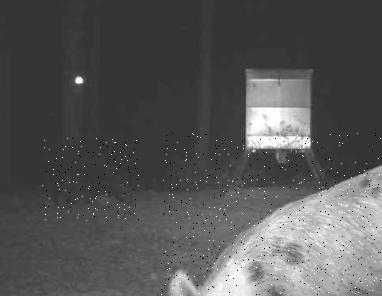Hog: (161, 133, 382, 296), (42, 138, 139, 221)
